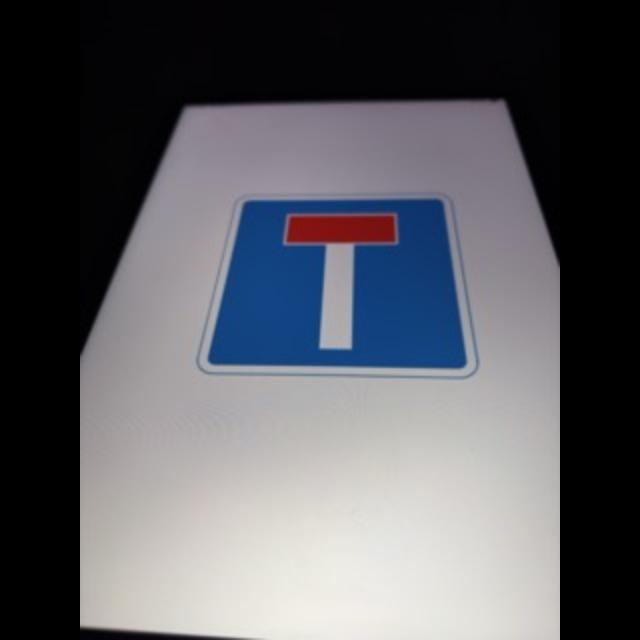DEAD END: (198, 190, 482, 392)
